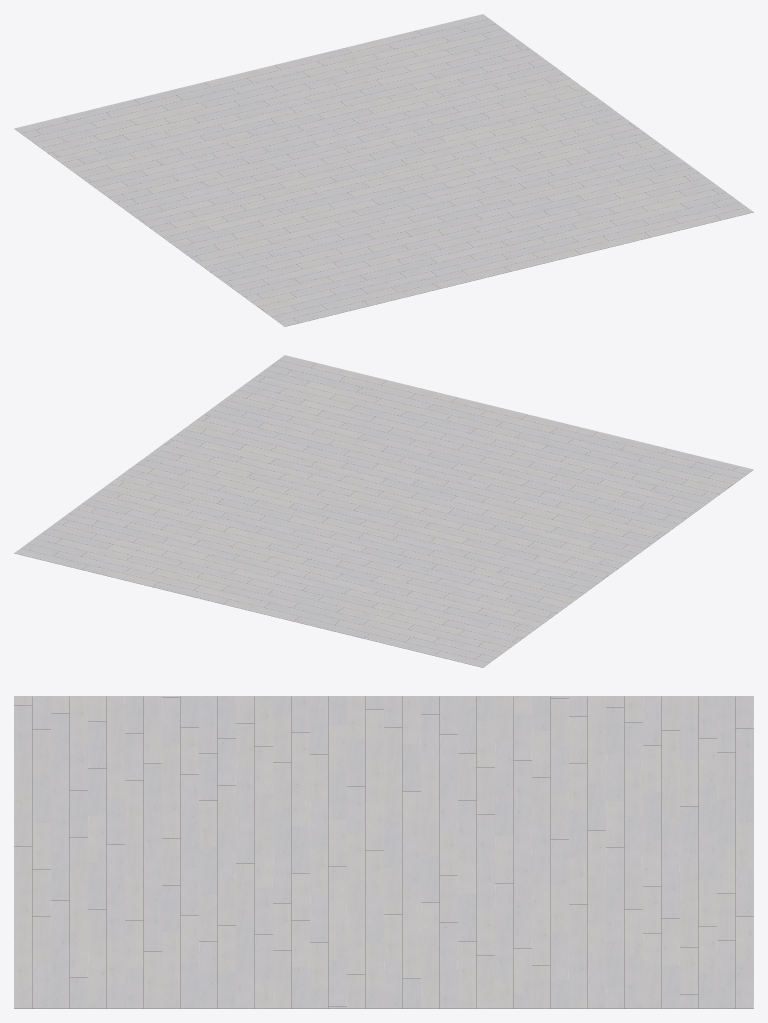
Rendered from leo-light-20x120-2.glb.
The picture shows the model from 3 angles, top to bottom: view 1: azimuth 30°, elevation 25°; view 2: azimuth 150°, elevation 25°; view 3: azimuth 270°, elevation 25°; orthographic projection. The views are drawn at different scales.
Visible parts, largest first — view 1: Leo Light; view 2: Leo Light; view 3: Leo Light.
Boxes of the visible parts, x1,y1,x2,y2 form: Leo Light: (14, 14, 753, 326); Leo Light: (14, 355, 753, 667); Leo Light: (14, 696, 753, 1008).
Bounding box in the file's own units: 8 × 0.003 × 8.
Materials: 2 (1 with a texture image).
